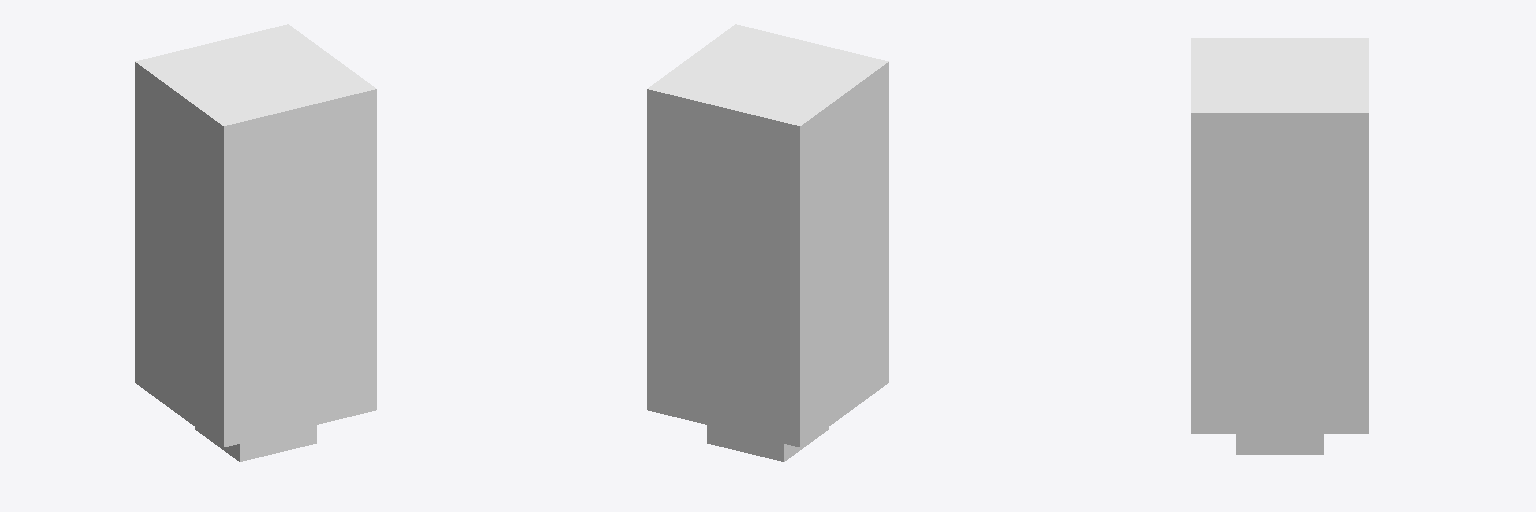
Rendered from bush_3.obj.
3 renders of one model, left to right at view 1: azimuth 30°, elevation 25°; view 2: azimuth 150°, elevation 25°; view 3: azimuth 270°, elevation 25°, orthographic.
Parts seen in each view (by area): view 1: object 1; view 2: object 1; view 3: object 1.
Part boxes in pixels (left/top/right/bottom): object 1: left=135, top=24, right=376, bottom=461; object 1: left=647, top=24, right=888, bottom=461; object 1: left=1191, top=38, right=1368, bottom=454.
Size of the model in its own units: 0.4 by 0.9 by 0.4.